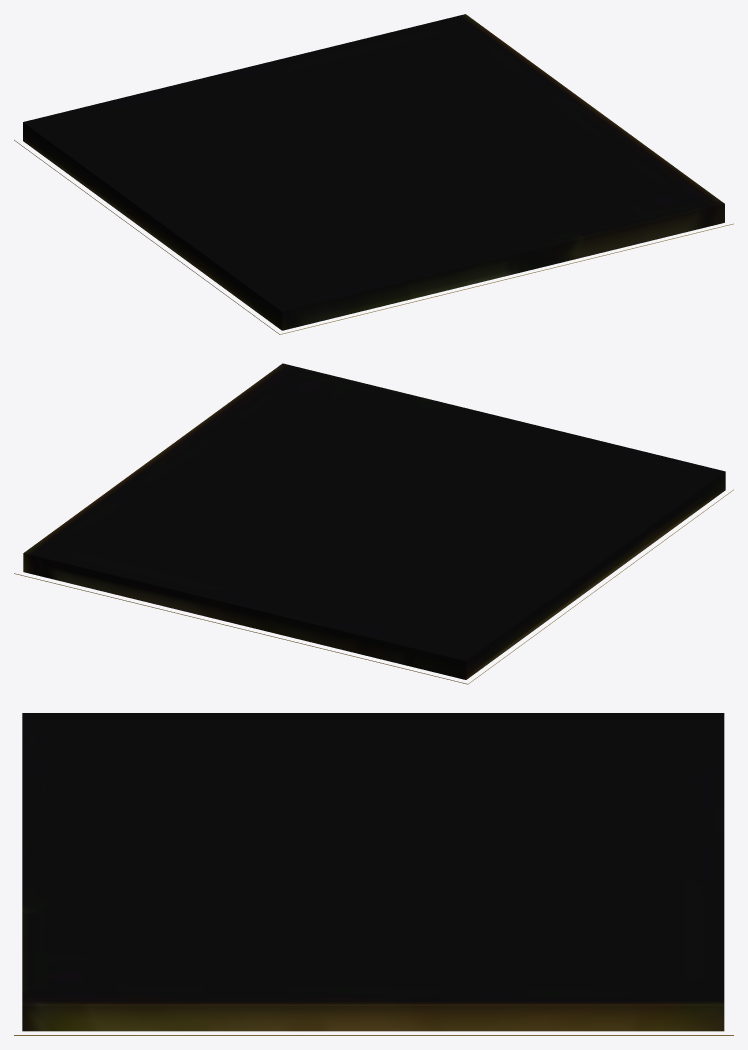
Rendered from troffer.glb.
3 views of the same model, one above another, from view 1: azimuth 30°, elevation 25°; view 2: azimuth 150°, elevation 25°; view 3: azimuth 270°, elevation 25° (orthographic). The views are drawn at different scales.
Visible parts, largest first — view 1: frame; view 2: frame; view 3: frame.
Boxes of the visible parts, x1,y1,x2,y2 form: frame: (14,14,733,334); frame: (14,363,733,684); frame: (14,713,733,1035).
Bounding box in the file's own units: 0.728 × 0.0307 × 0.7386.
Materials: 2 (2 with a texture image).
